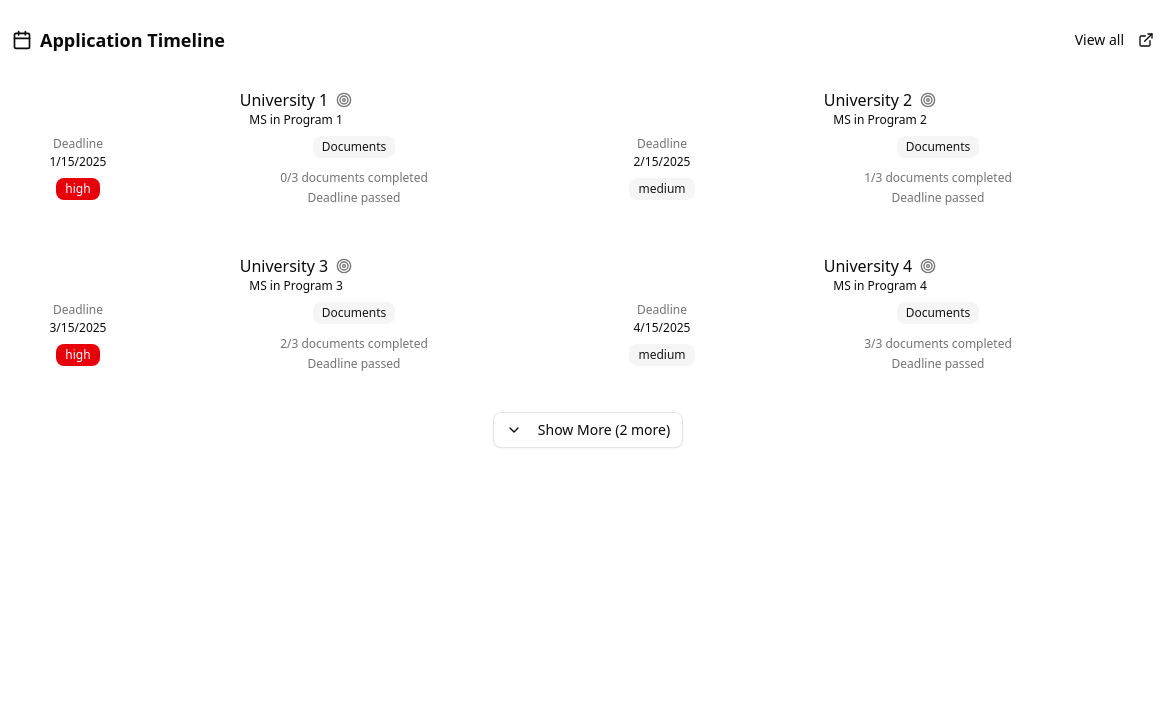
Scenario: ApplicationTimeline Component › toggles between showing all events and initial events when "Show More/Less" is clicked
Click the button "Show More (2 more)".
click(588, 430)  # box [493, 412, 683, 448]
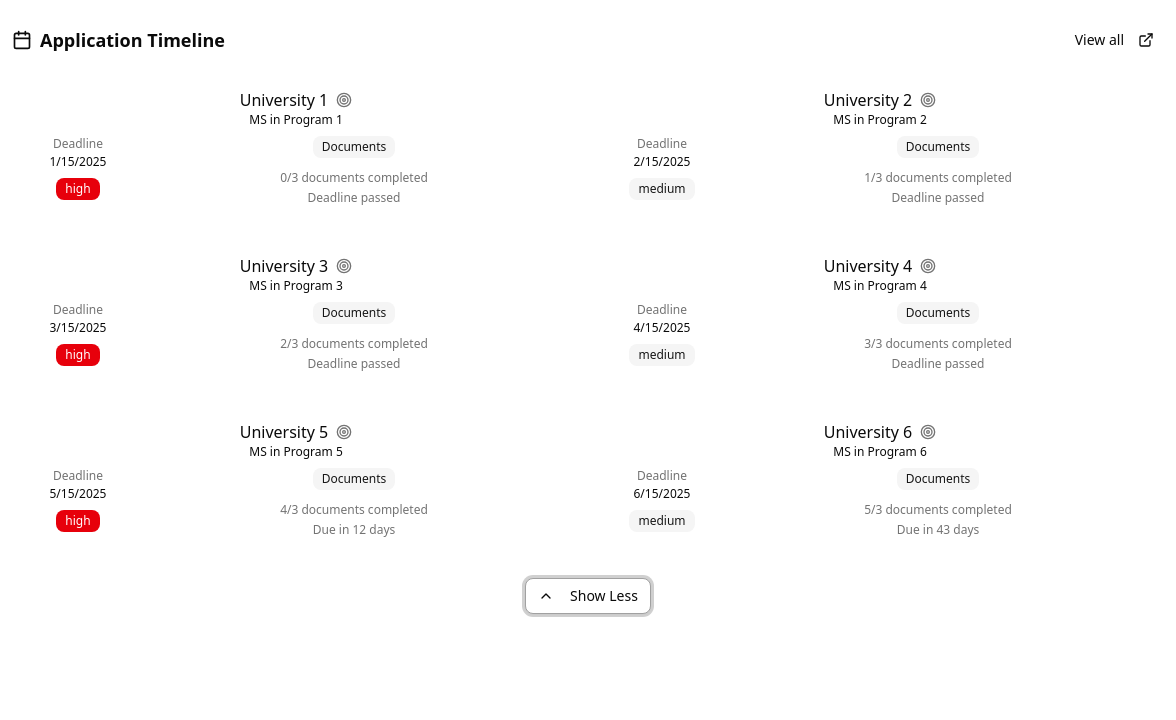
Click the button "Show Less".
click(588, 596)  # box [525, 578, 651, 614]
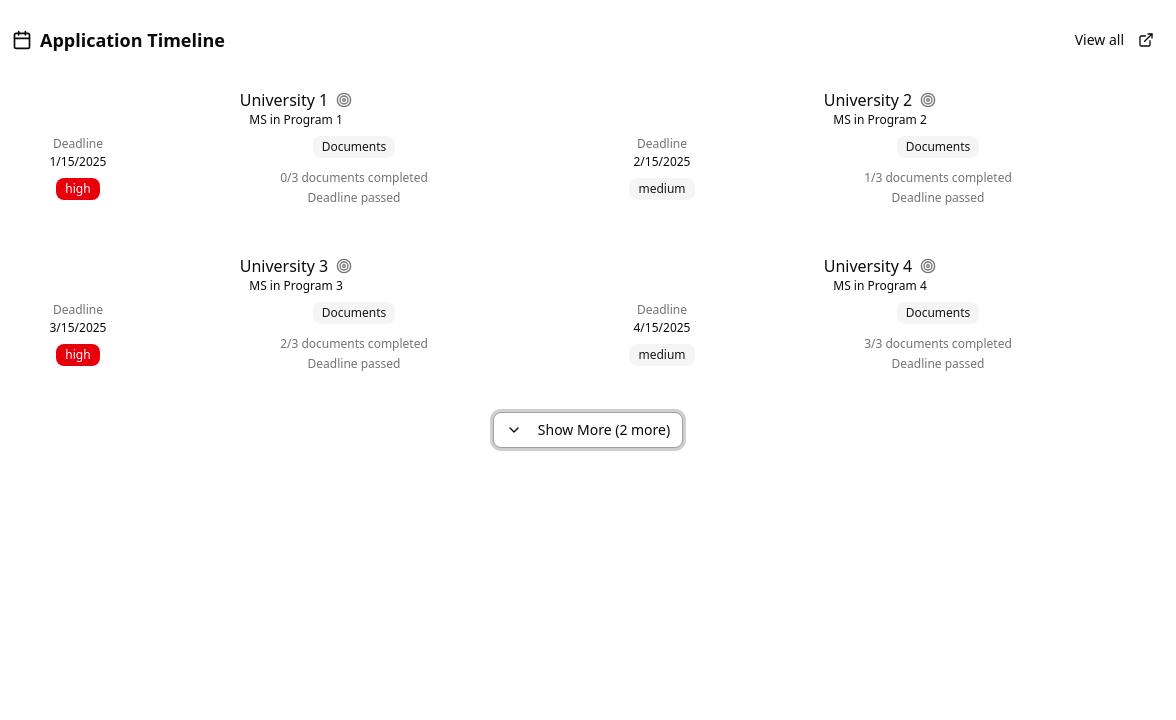
Result: the number of elements with test id "timeline-card" is 4 at [50, 89, 428, 206]; [629, 89, 1012, 206]; [50, 255, 428, 372]; [629, 255, 1012, 372]
